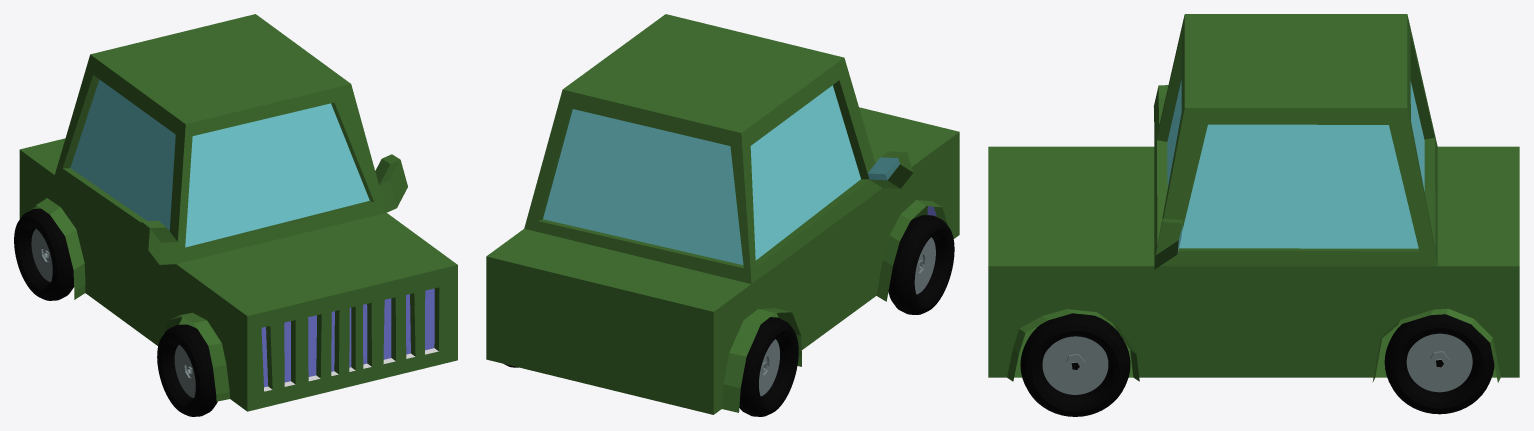
Rendered from carlow-poly.fbx.
3 renders of one model, left to right at view 1: azimuth 30°, elevation 25°; view 2: azimuth 150°, elevation 25°; view 3: azimuth 270°, elevation 25°, orthographic. The views are drawn at different scales.
Parts seen in each view (by area): view 1: Cube, Torus.004, Torus.003; view 2: Cube, Torus.004, Torus.003; view 3: Cube, Torus.002, Torus.001.
Part boxes in pixels (<box>): Cube: <box>19,14,457,411</box>; Torus.004: <box>157,324,217,416</box>; Torus.003: <box>14,208,74,300</box>; Cube: <box>486,14,959,414</box>; Torus.004: <box>888,215,954,314</box>; Torus.003: <box>739,317,798,416</box>; Cube: <box>988,14,1519,382</box>; Torus.002: <box>1020,313,1130,416</box>; Torus.001: <box>1384,314,1494,414</box>.
Size of the model in its own units: 248 by 230 by 375.
